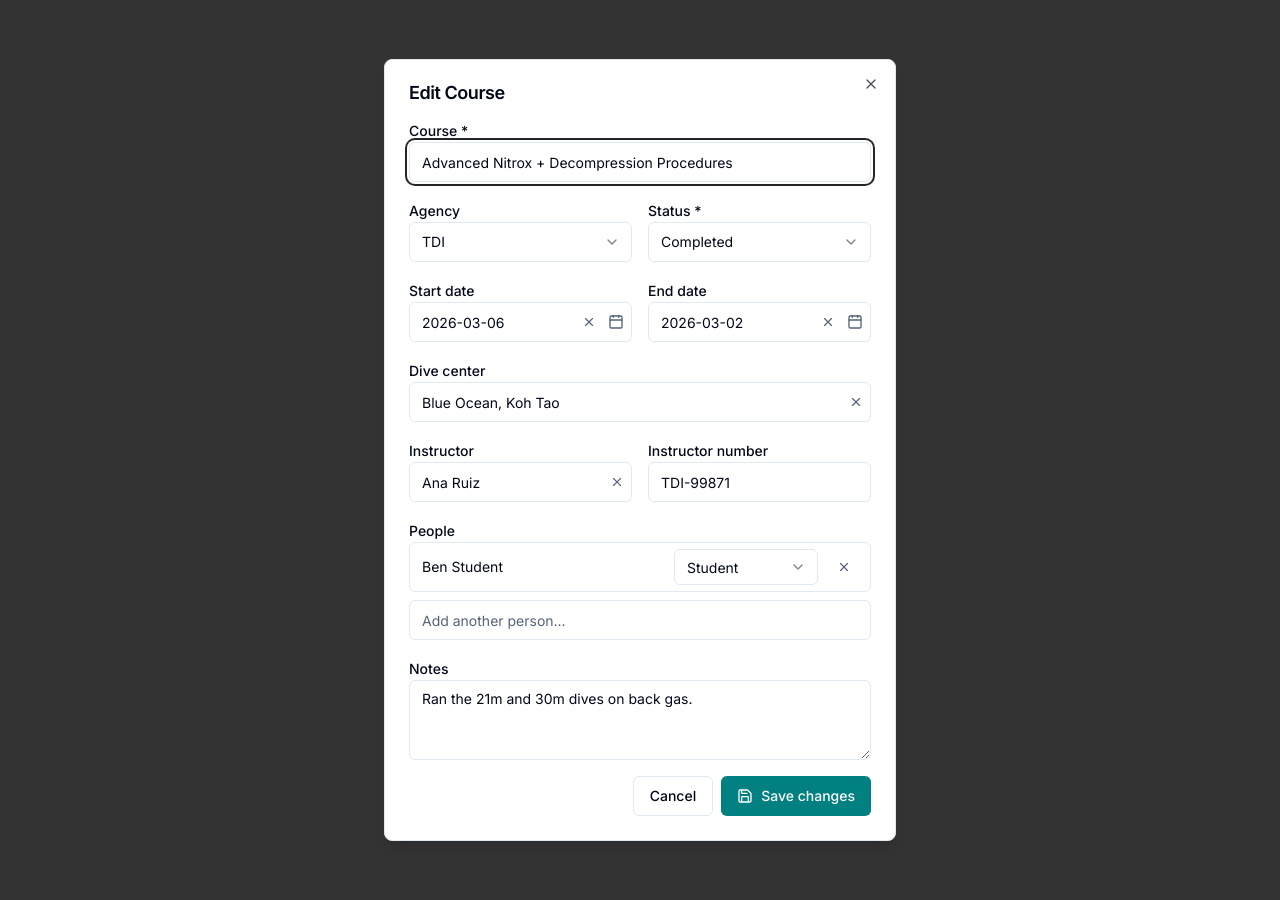
Test: CourseDialog › refuses an end date before the start date, beside the end date
expect the field labelled "Course *" holds "Advanced Nitrox + Decompression Procedures": met, box [409,142,871,182]
What coordinates should you click on to do the following:
click the button "Save changes"
I would click on:
 (796, 796)
Its box is [721,776,871,816].
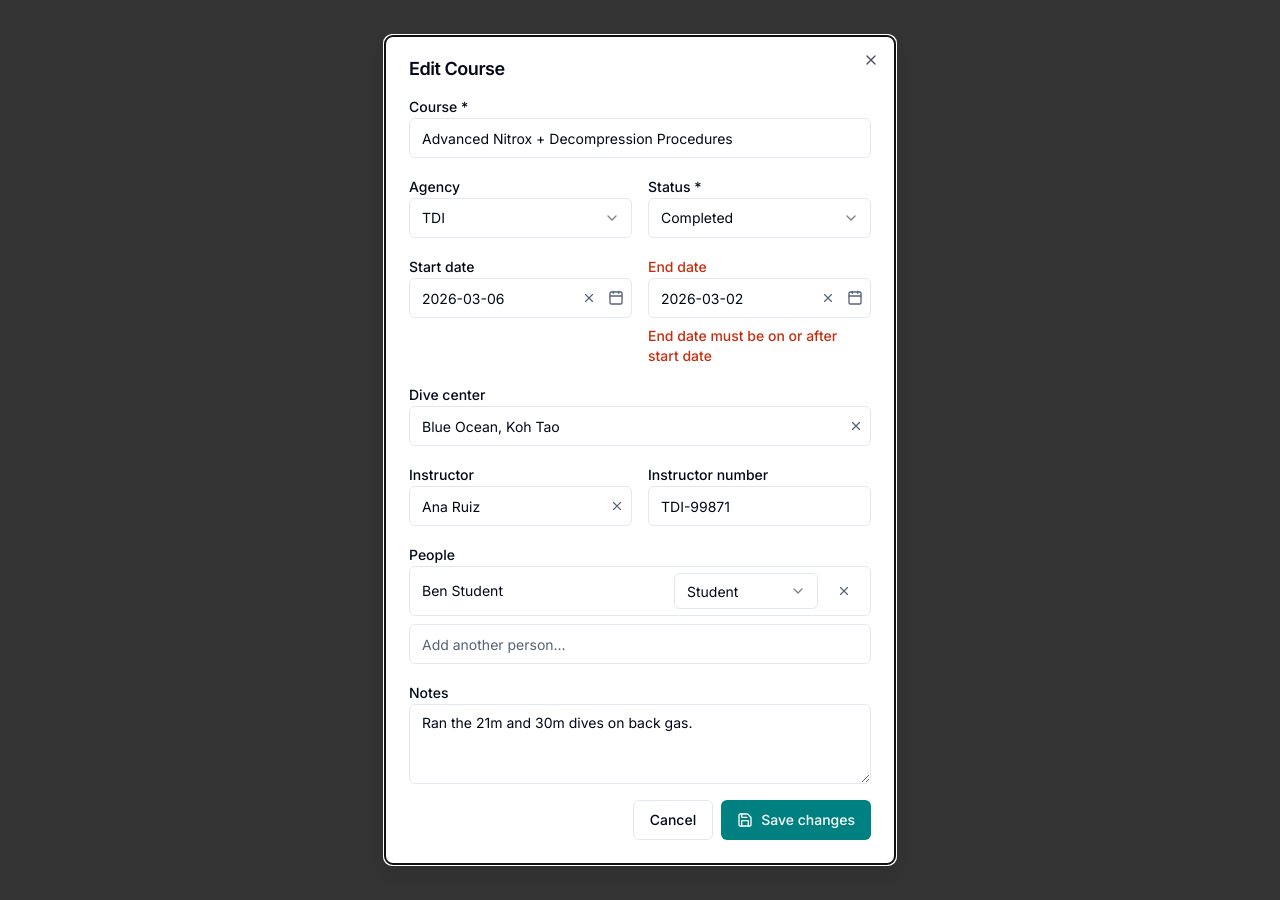
expect the text "End date must be on or after start date" is shown: met, box [648,327,837,364]
